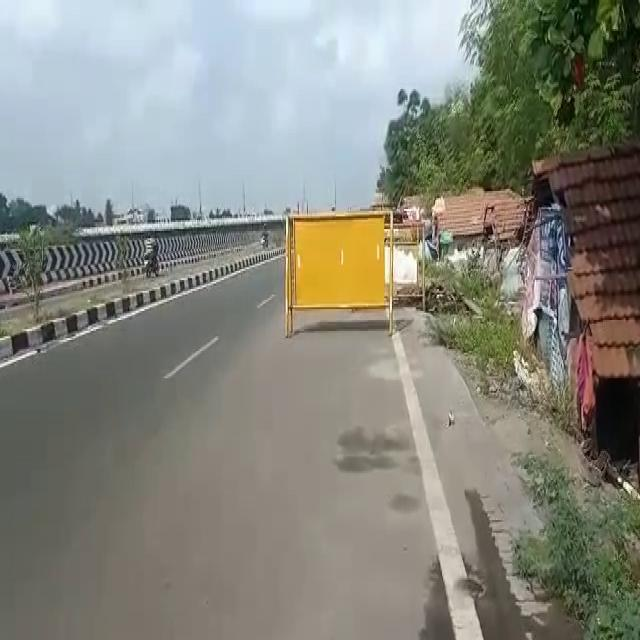fallen_object: (257, 196, 418, 328)
